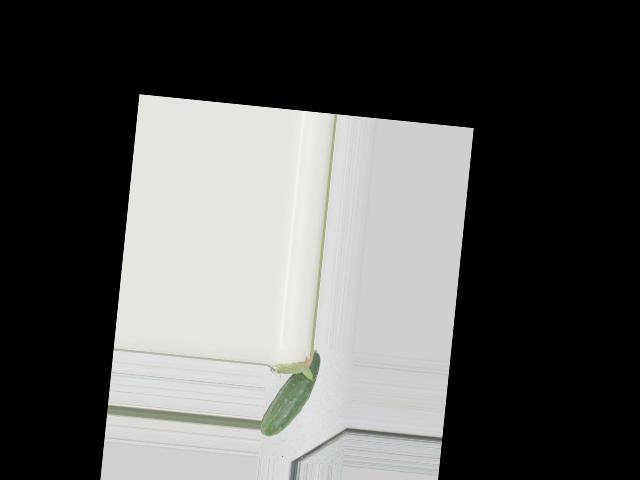cucumber: (259, 345, 320, 440)
